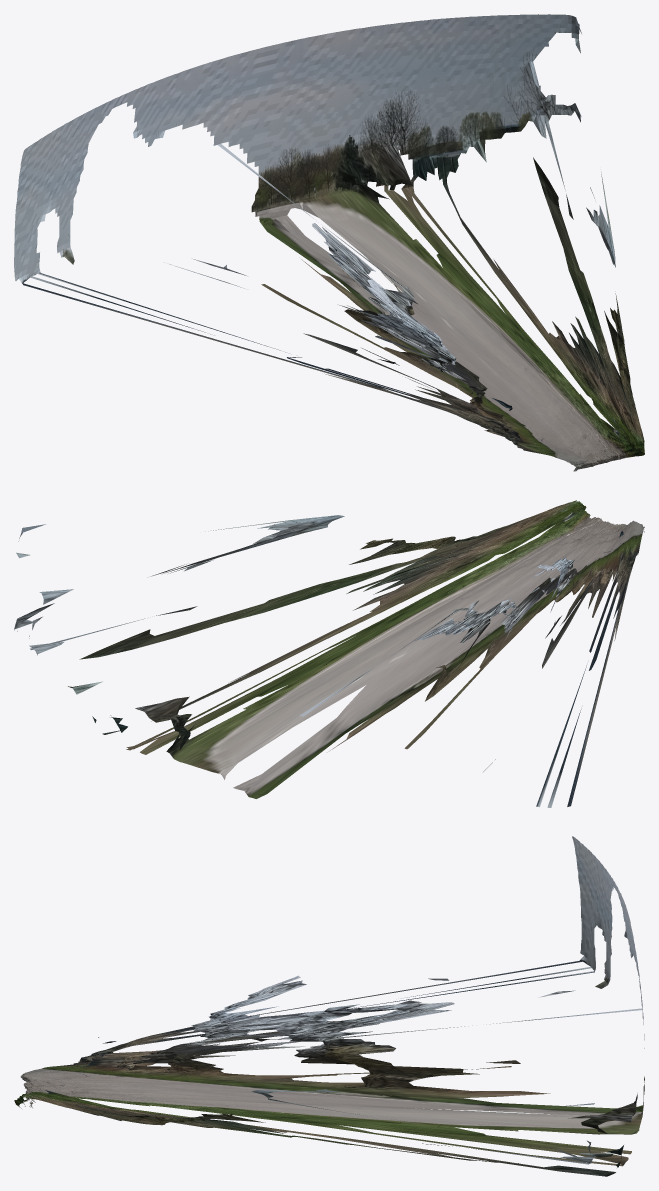
The picture shows the model from 3 angles, top to bottom: view 1: azimuth 30°, elevation 25°; view 2: azimuth 150°, elevation 25°; view 3: azimuth 270°, elevation 25°; orthographic projection. The views are drawn at different scales.
Parts seen in each view (by area): view 1: defaultobject; view 2: defaultobject; view 3: defaultobject.
Boxes of the visible parts, left/top/right/bottom form: defaultobject: left=14, top=14, right=644, bottom=471; defaultobject: left=14, top=500, right=644, bottom=807; defaultobject: left=14, top=836, right=644, bottom=1176.
Bounding box in the file's own units: 40.88 × 12.85 × 44.74.
1 material, 1 textured.
